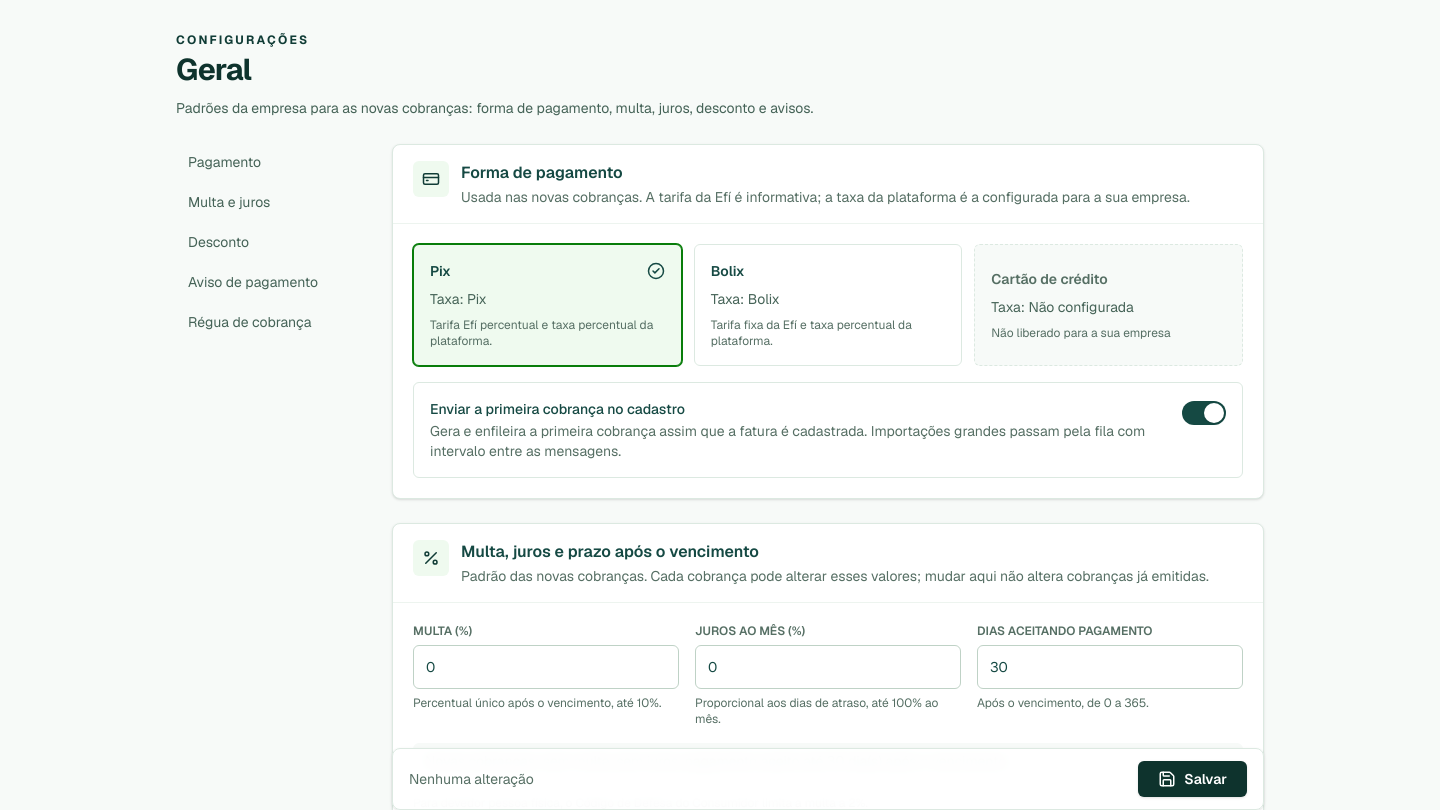
Scenario: loading and saving state › flags unsaved changes until they are saved
This screenshot has width=1440, height=810.
Expected: the button "Salvar" is enabled, [1138,761,1247,797]
Expected: the text "Nenhuma alteração" is shown, [409,770,534,788]
Click the button "Bolix".
click(728, 271)  # box [694,244,962,366]
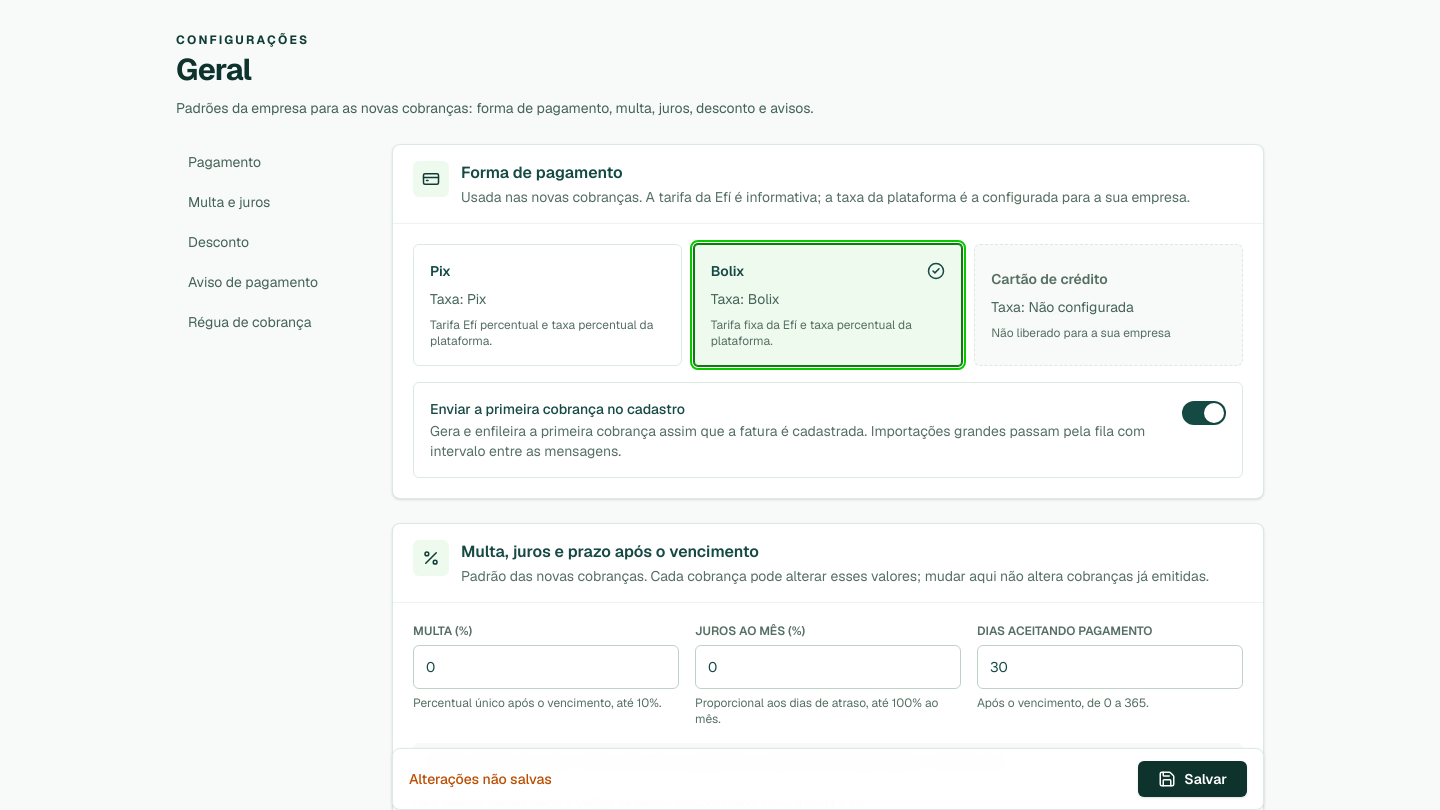
Result: the text "Alterações não salvas" is shown at [409,770,552,788]
Click the button "Salvar".
click(1193, 779)  # box [1138,761,1247,797]
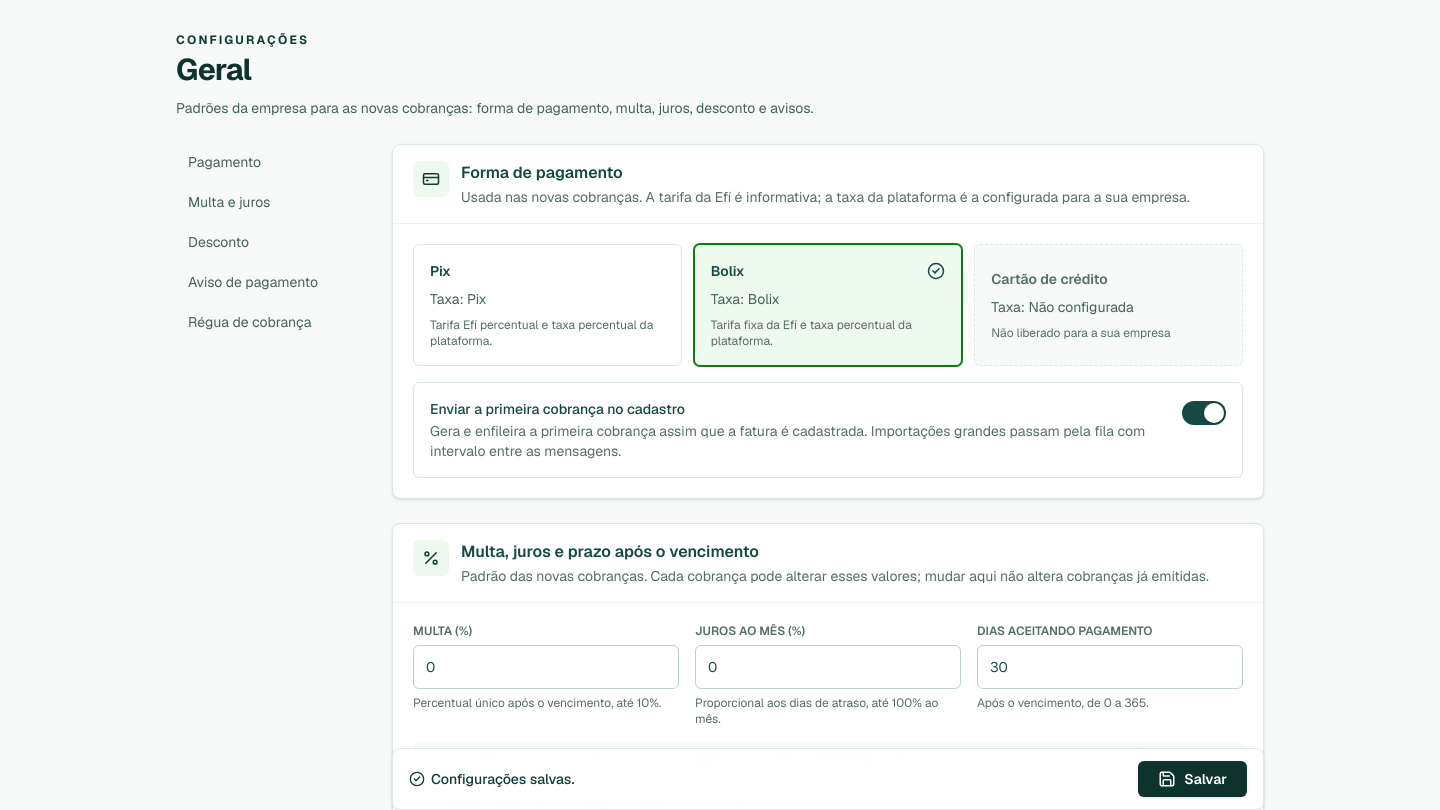
Result: the text "Configurações salvas." is shown at [409,769,574,789]
Result: the text "Alterações não salvas" is gone
